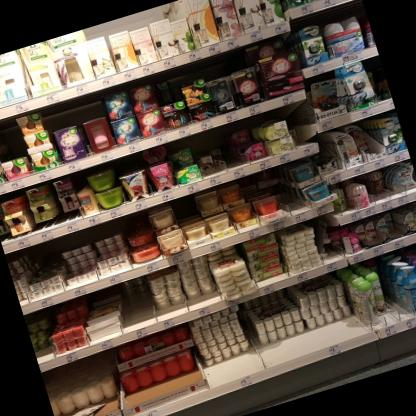empty_space: (218, 137, 244, 173)
